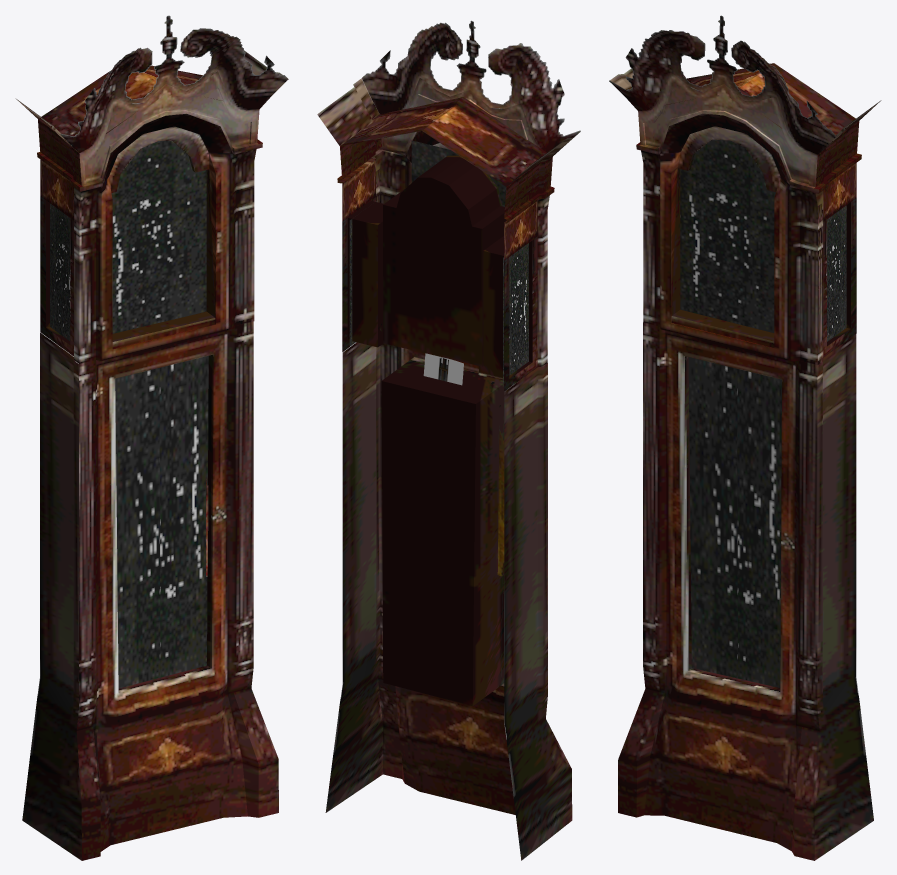
Rendered from Clock.fbx.
The picture shows the model from 3 angles, left to right: view 1: azimuth 30°, elevation 25°; view 2: azimuth 150°, elevation 25°; view 3: azimuth 330°, elevation 25°; orthographic projection. The views are drawn at different scales.
Parts seen in each view (by area): view 1: clockBody, clockScreens, clockTop; view 2: clockBody, clockTop, clockScreens, clockPendel; view 3: clockBody, clockScreens, clockTop.
Boxes of the visible parts, x1,y1,x2,y2 form: clockBody: (22,65,278,860); clockScreens: (50,141,208,688); clockTop: (15,15,288,152); clockBody: (325,78,572,860); clockTop: (317,20,580,185); clockScreens: (349,140,528,685); clockPendel: (423,353,463,385); clockBody: (618,63,873,860); clockScreens: (680,139,846,687); clockTop: (609,15,881,154).
Bounding box in the file's own units: 3.98 × 13.62 × 1.76.
6 materials, 6 textured.
